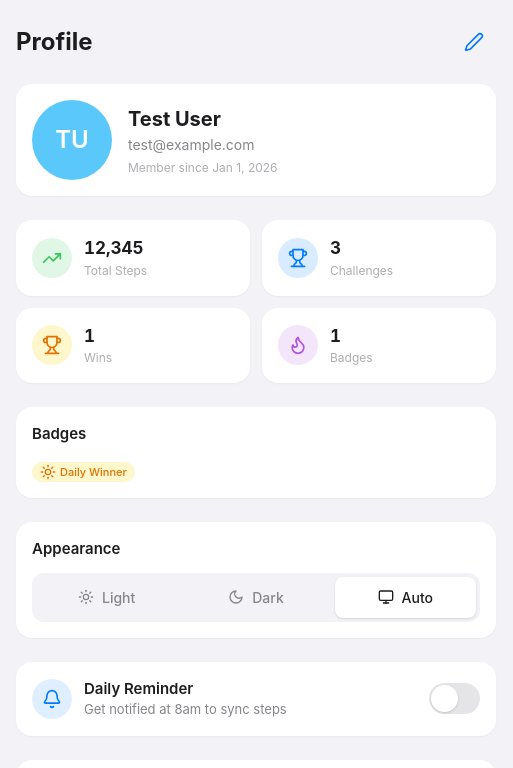
Scenario: Profile Daily Reminder › shows error toast when notification permission denied
Click the switch named "daily step reminder".
click(454, 698)  # box [429,683,480,714]
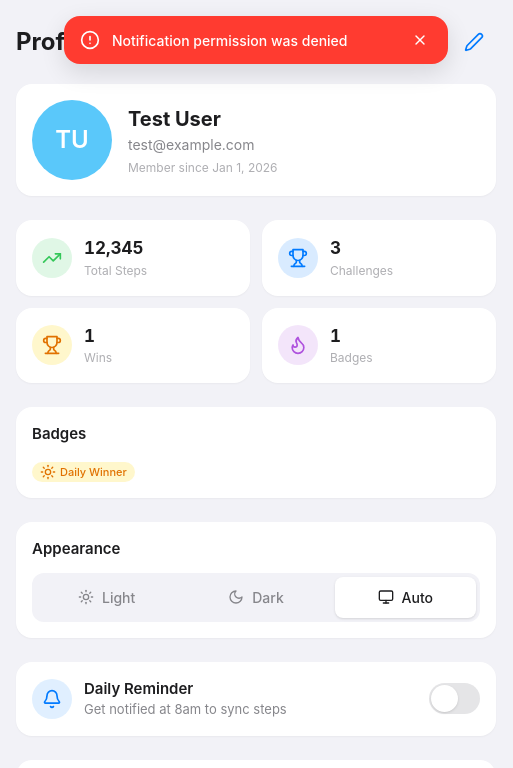
Expected: the text "Notification permission was denied" is shown, [112,32,348,48]
